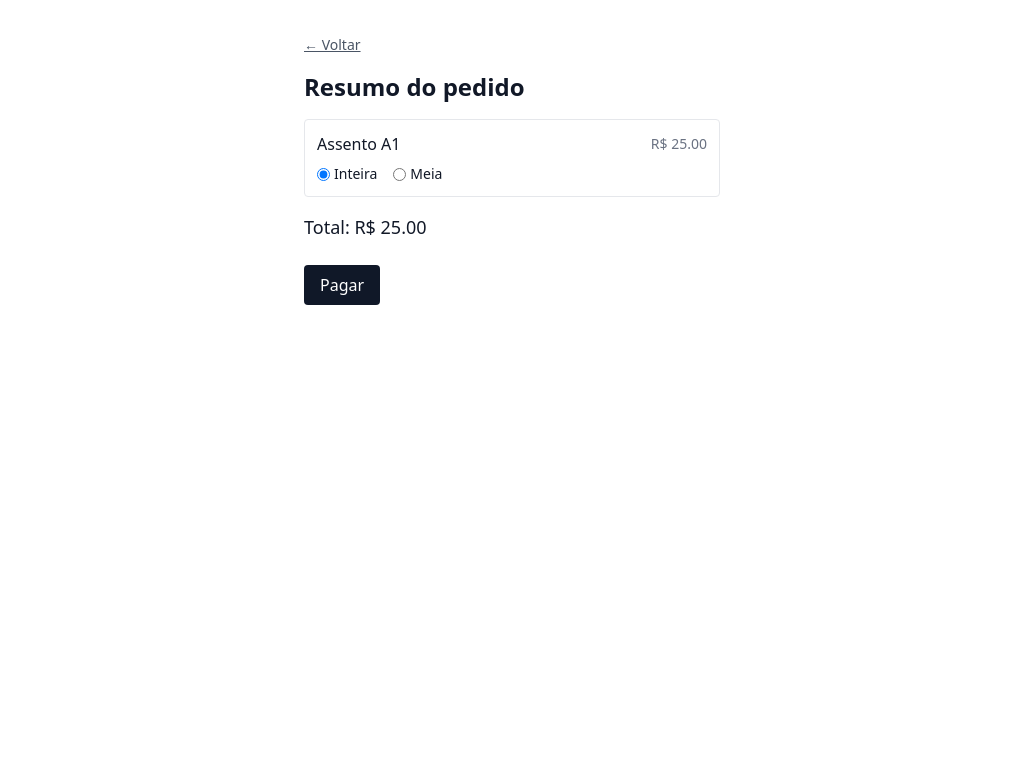
CheckoutPage (integration) › should ask for confirmation before cancelling and stay on the page when dismissed
Expected: the text "Assento A1" is shown, [317,132,400,156]
WHEN the user clicks back and then dismisses the confirmation
Click the button "← Voltar".
click(332, 45)  # box [304,35,360,55]
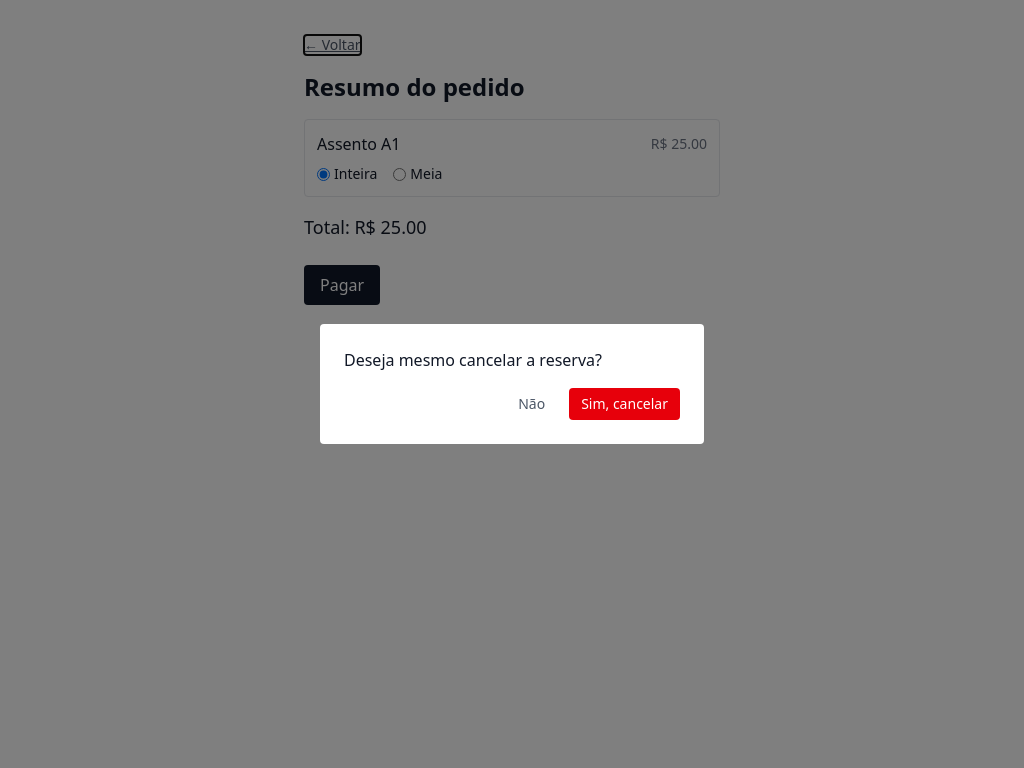
Expected: the text "Deseja mesmo cancelar a reserva?" is shown, [344,349,602,371]
Click the button "Não".
click(532, 404)  # box [506,388,557,420]
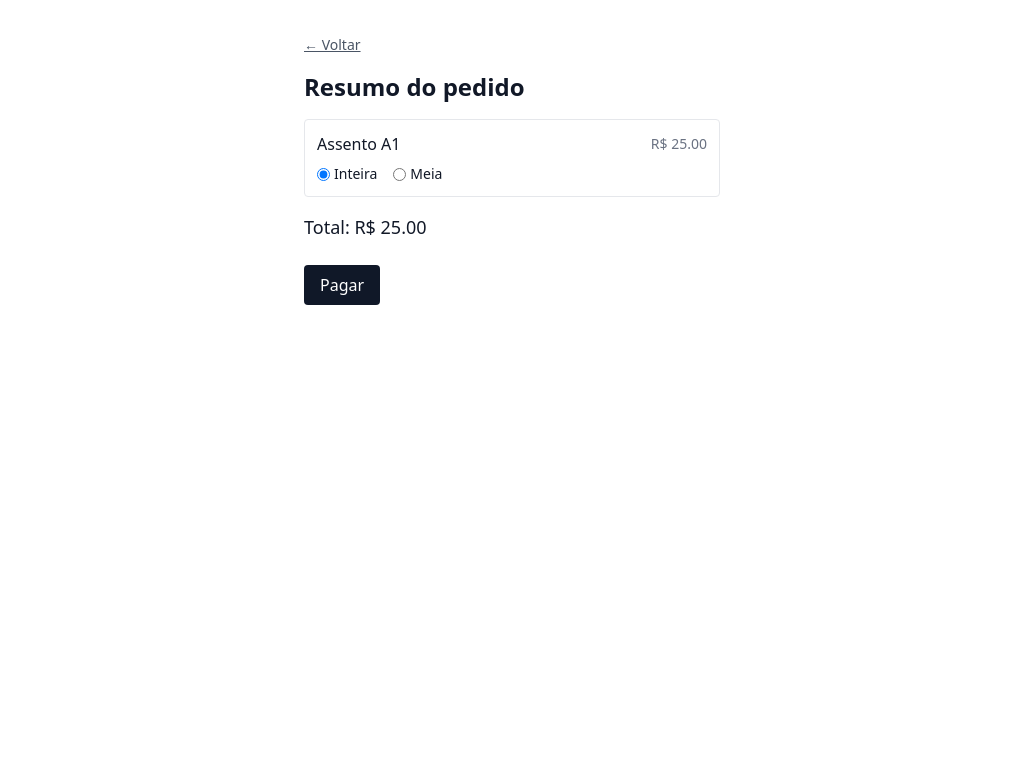
Expected: the heading "Resumo do pedido" is shown, [304,70,525,103]
Expected: the text "Deseja mesmo cancelar a reserva?" is gone
